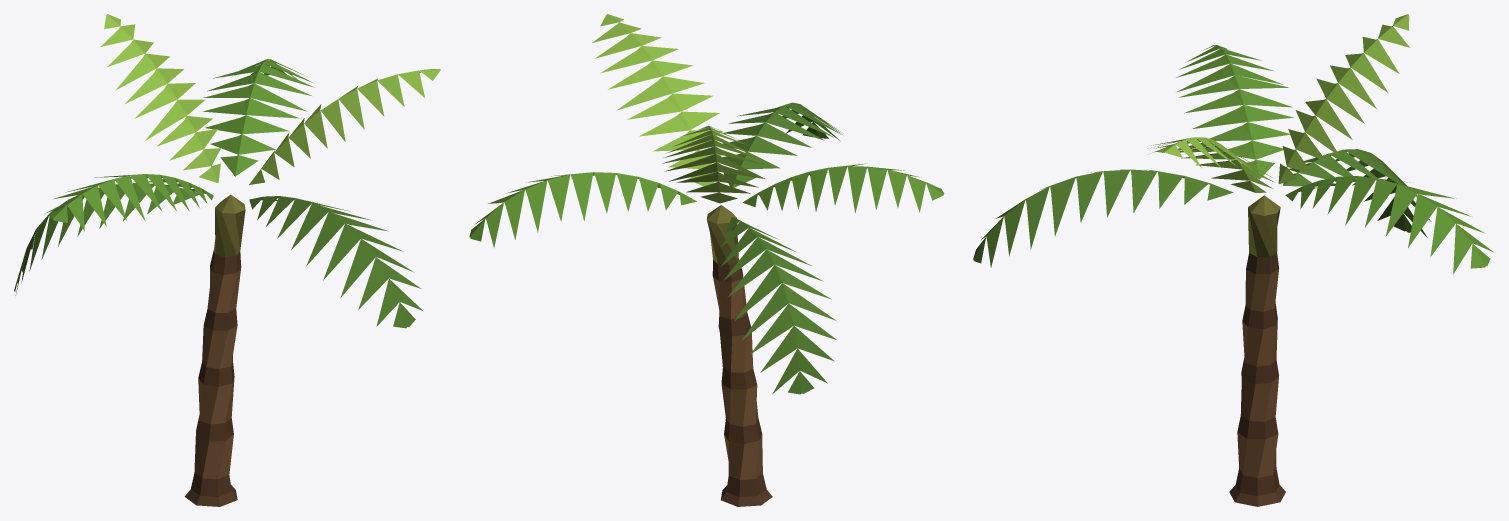
The model's file is palm_young.glb.
3 renders of one model, left to right at view 1: azimuth 30°, elevation 25°; view 2: azimuth 150°, elevation 25°; view 3: azimuth 270°, elevation 25°, orthographic. The views are drawn at different scales.
Visible parts, largest first — view 1: palm_young; view 2: palm_young; view 3: palm_young.
Boxes of the visible parts, <box> form: palm_young: <box>14,14,440,506</box>; palm_young: <box>469,14,944,506</box>; palm_young: <box>973,14,1493,506</box>.
Size of the model in its own units: 2.56 by 2.92 by 2.98.
